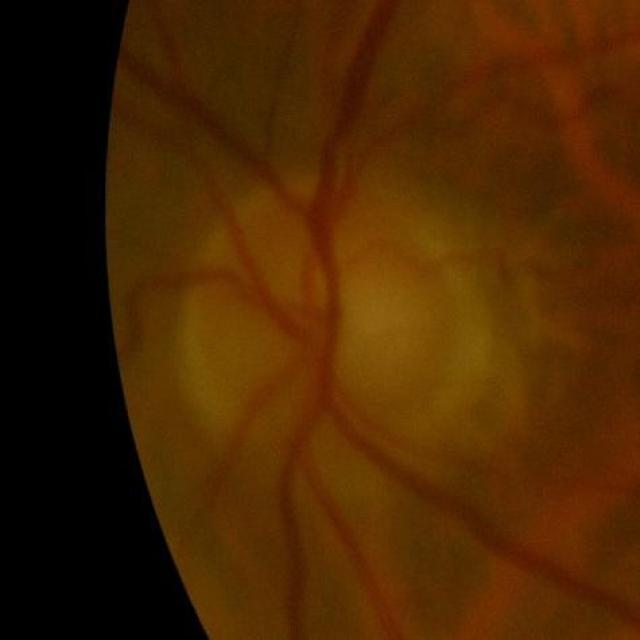OC: (320, 264, 418, 370)
OD: (190, 169, 451, 459)
